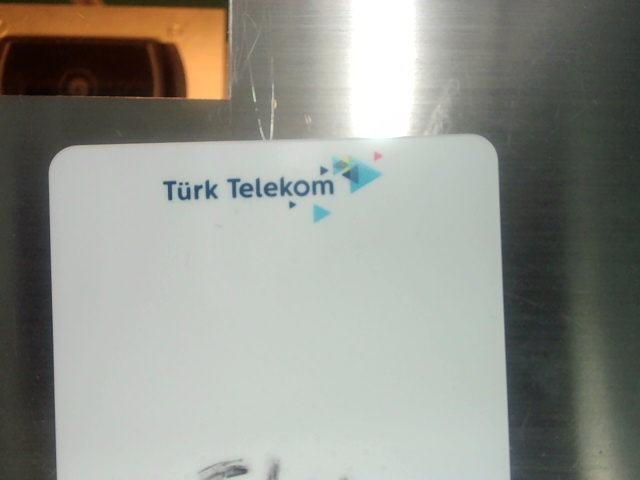AQ_TURKTelekom: (155, 148, 399, 223)
